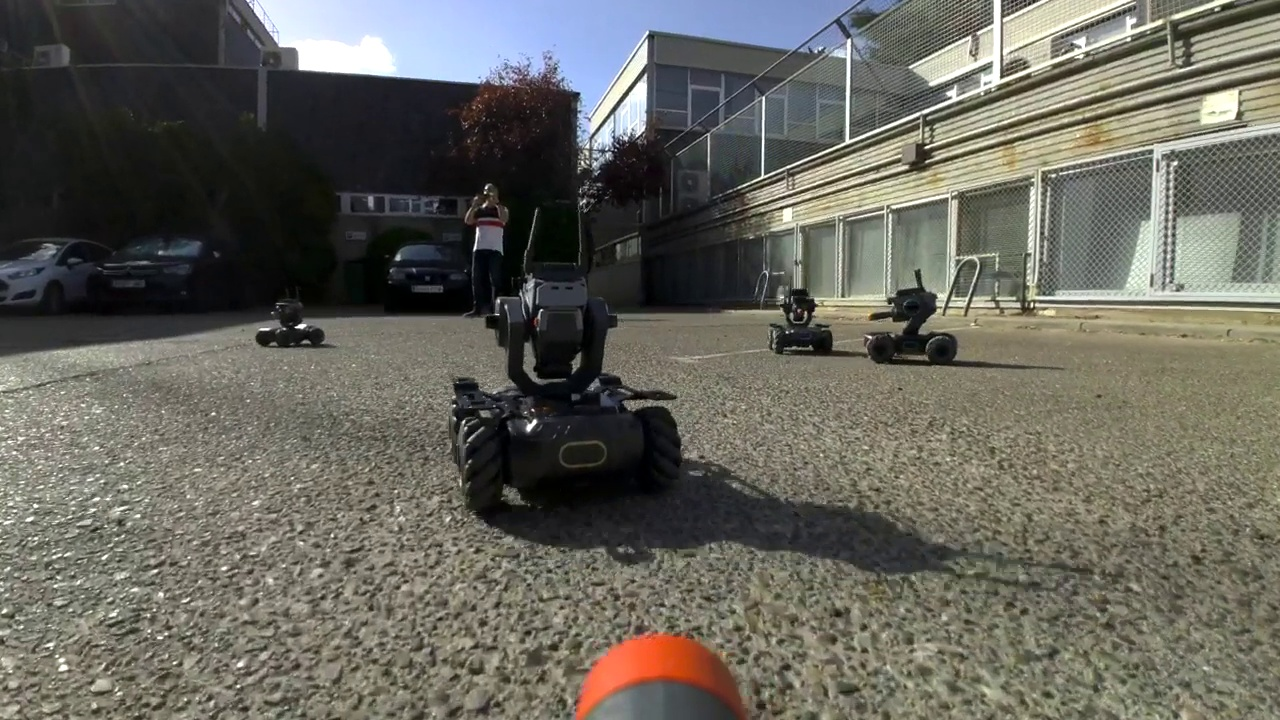robot: (449, 205, 682, 505), (865, 264, 958, 363), (768, 275, 836, 359), (255, 284, 326, 350)
